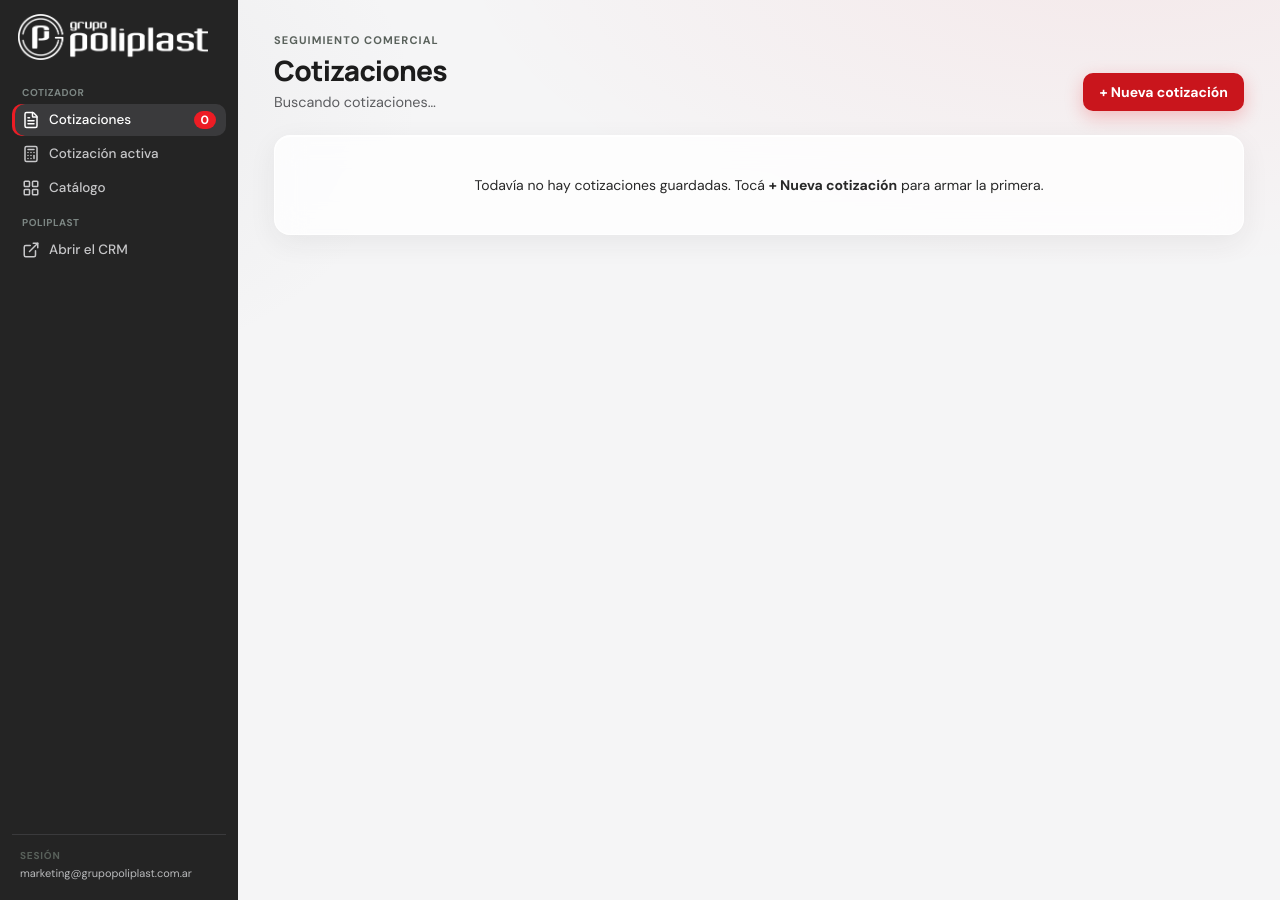
Test case: QuoteWorkspace — reglas comerciales conectadas › protege la cotización antes de abrir WhatsApp
Click the button "Catálogo" at (119, 188), box [12,172,226,204]
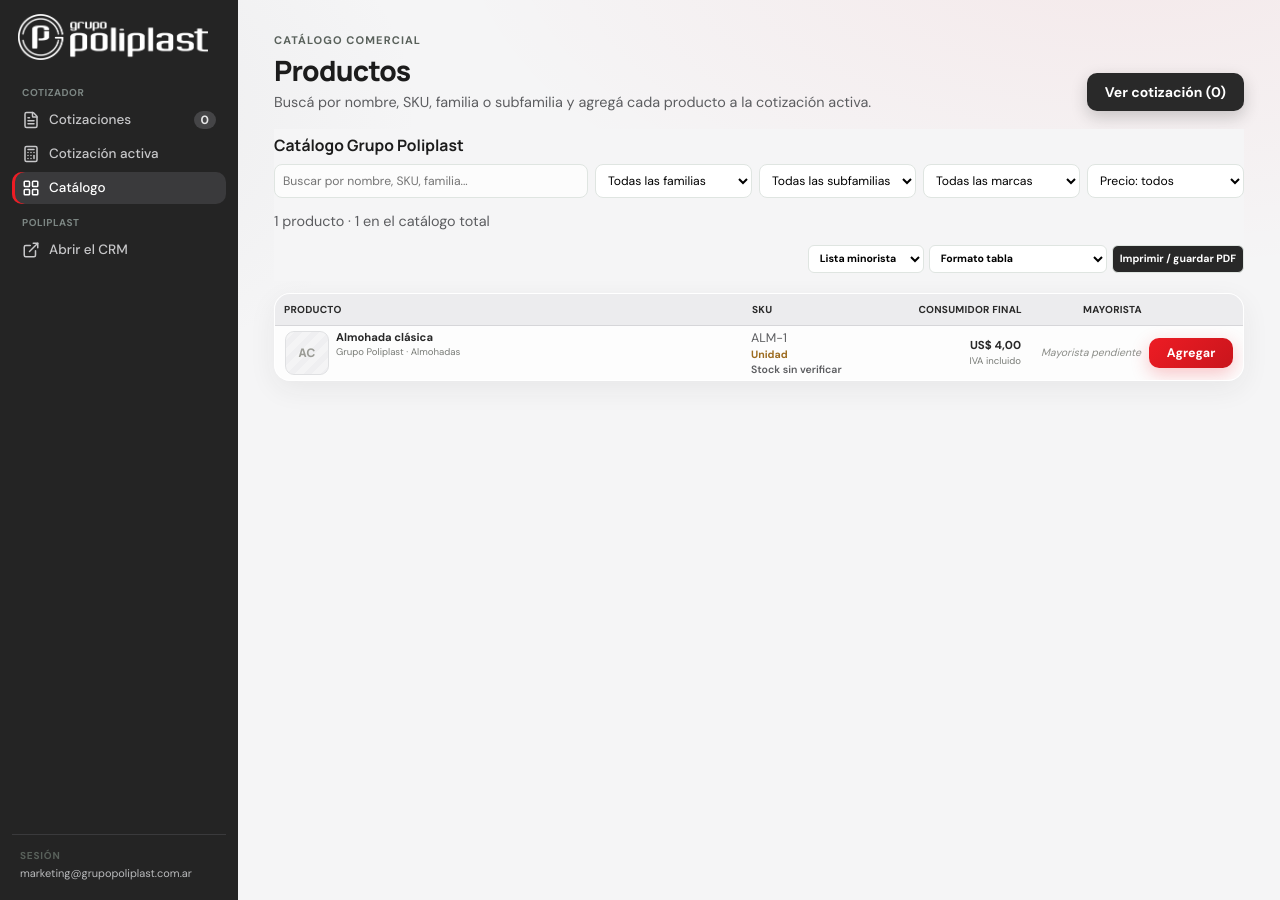
Click the button "Agregar" at (1191, 353), box [1149,338,1233,368]
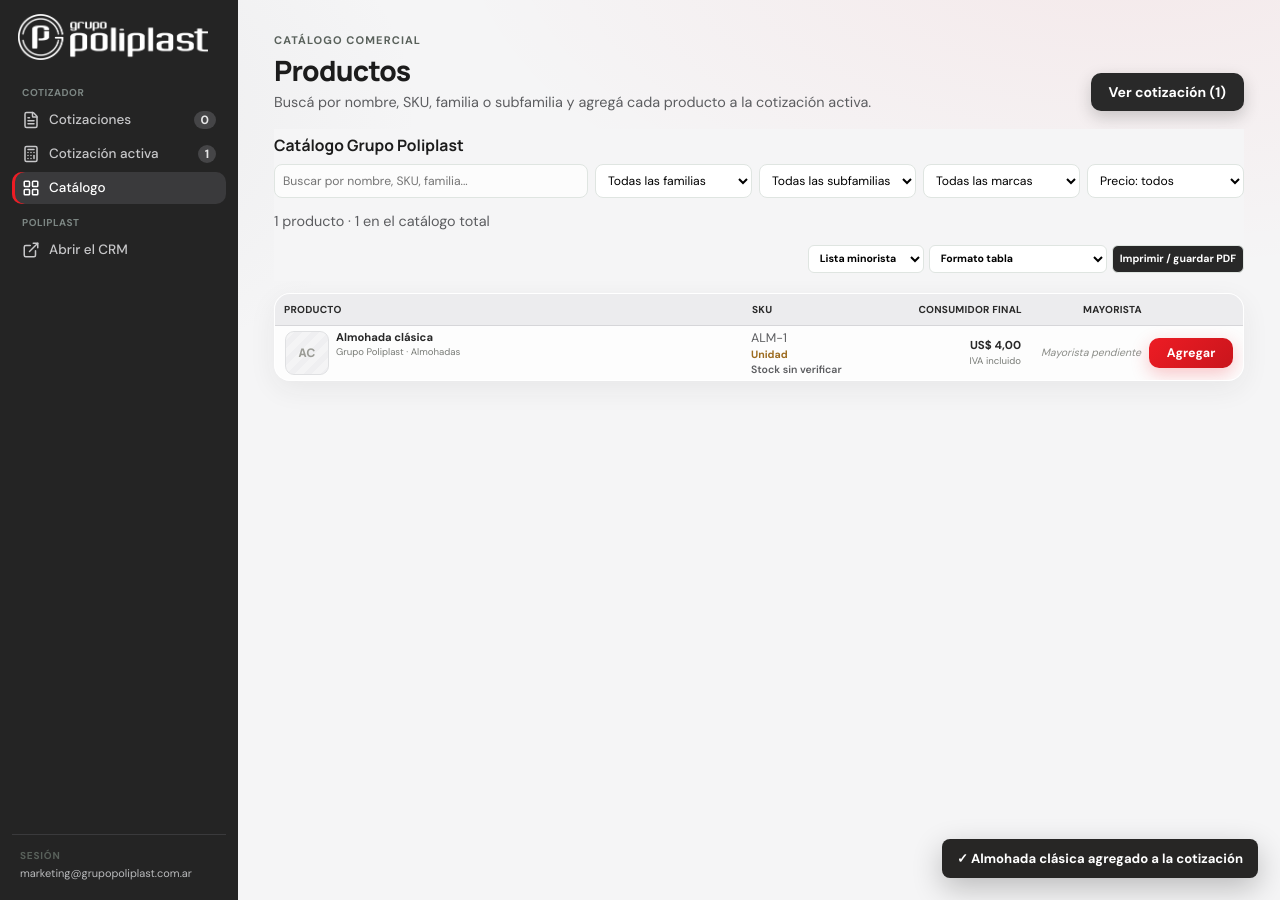
Click the button "Ver cotización (1)" at (1167, 92), box [1090,73,1244,111]
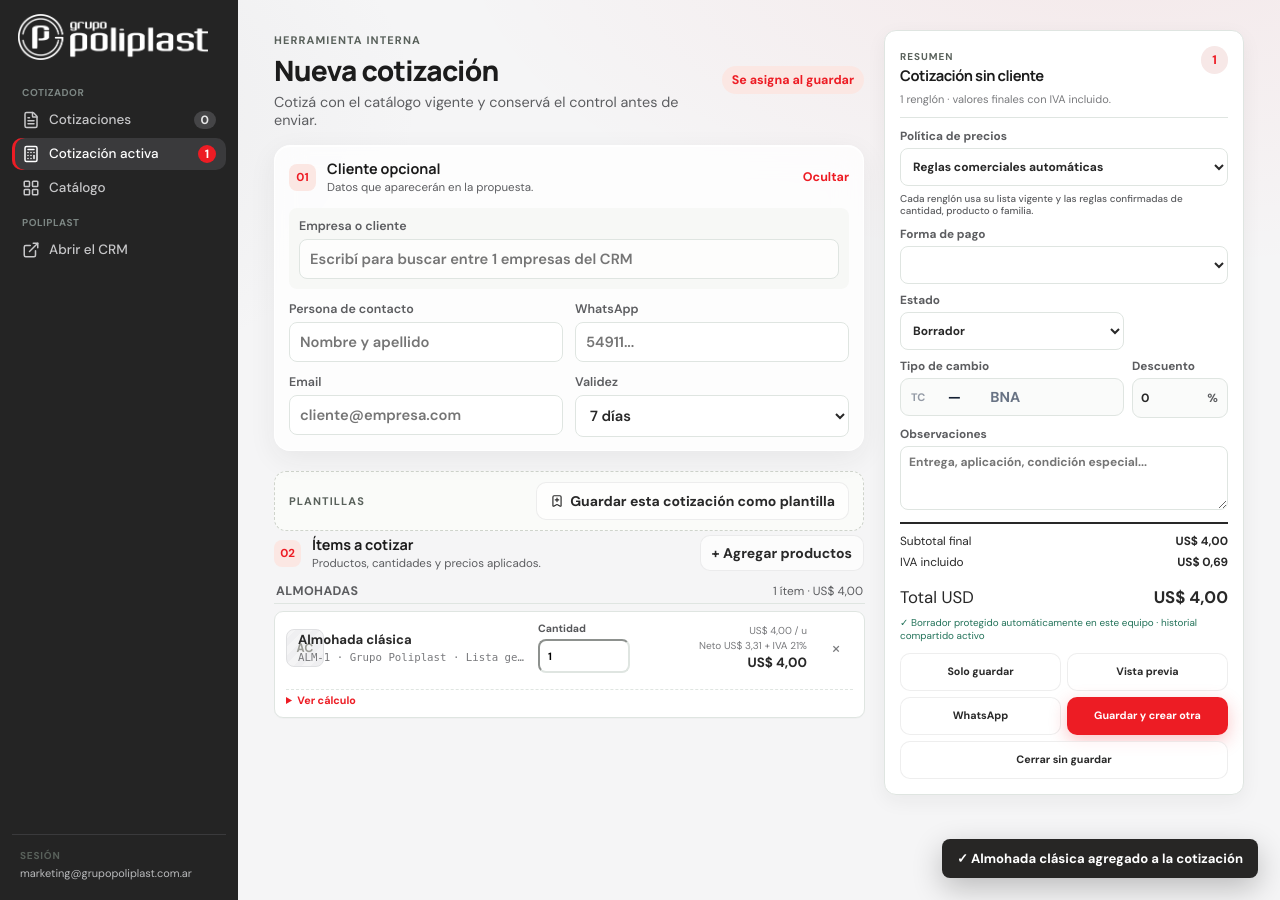
Type "Cliente Alfa" into the field with placeholder "Escribí para buscar entre 1 empresas del CRM" at (569, 259), box [299,239,839,279]
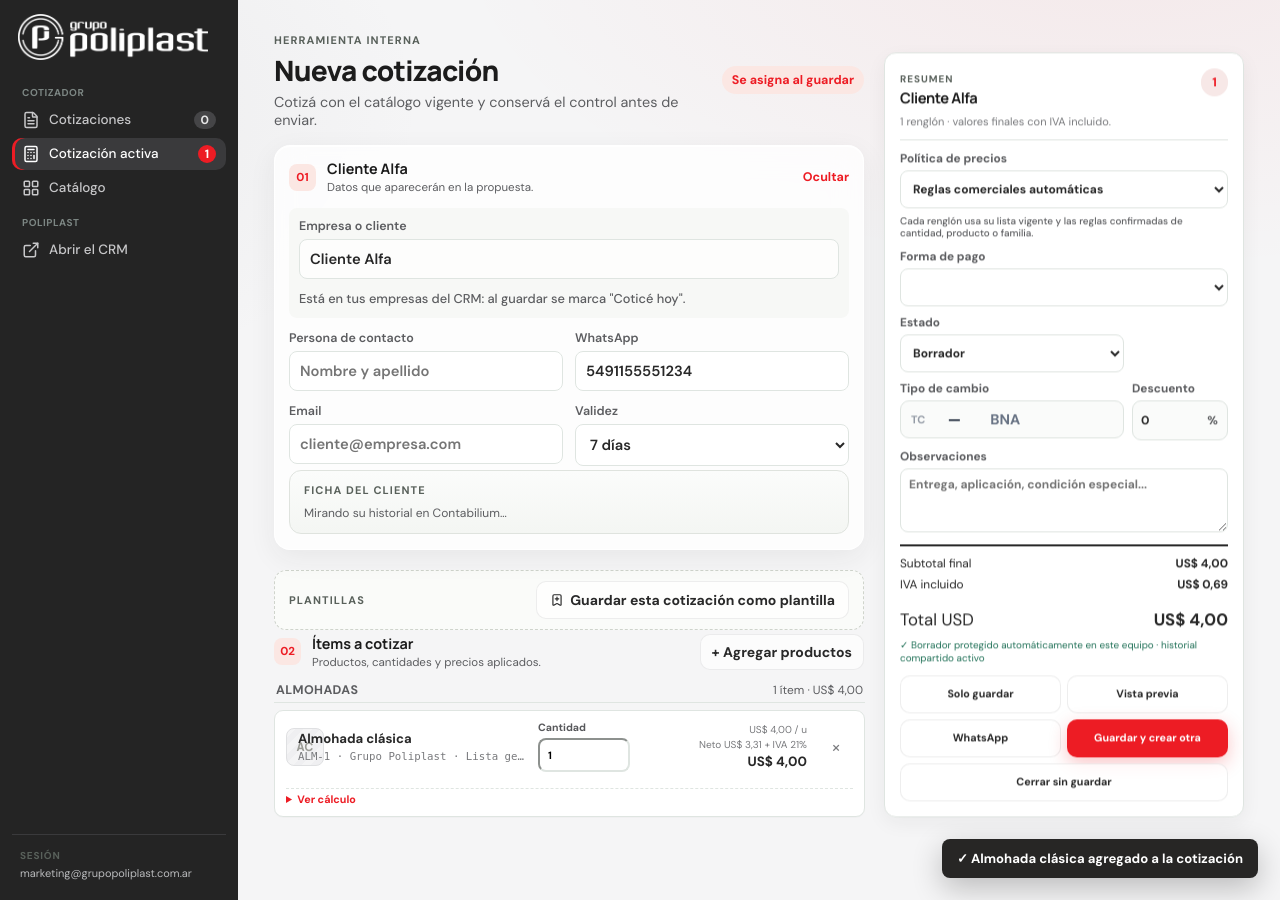
Result: the text "al guardar se marca \"Coticé hoy\"" is shown at [299,290,685,307]
Click the button "WhatsApp" at (980, 738), box [900,719,1061,757]
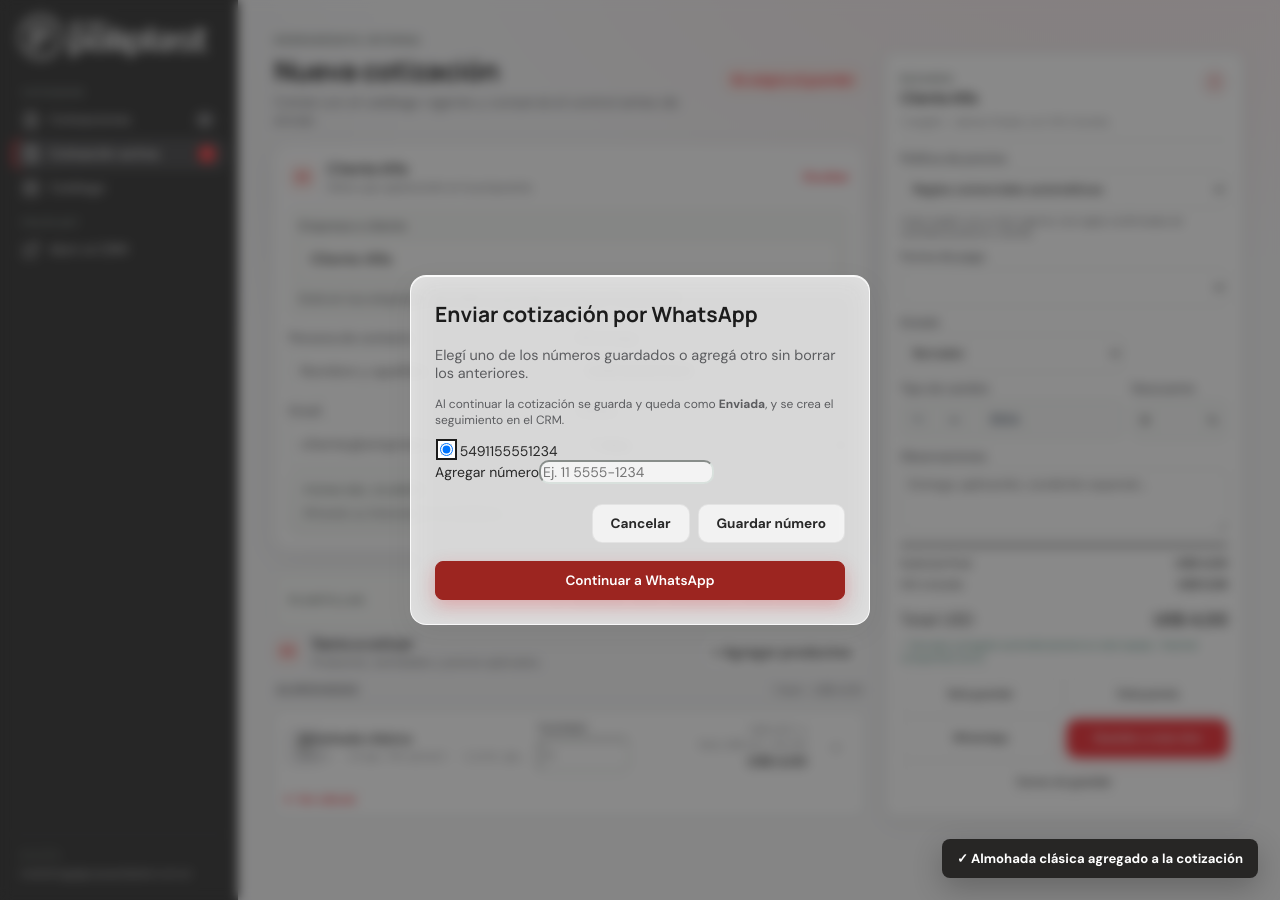
Click the button "Continuar a WhatsApp" at (640, 580), box [435,561,845,600]
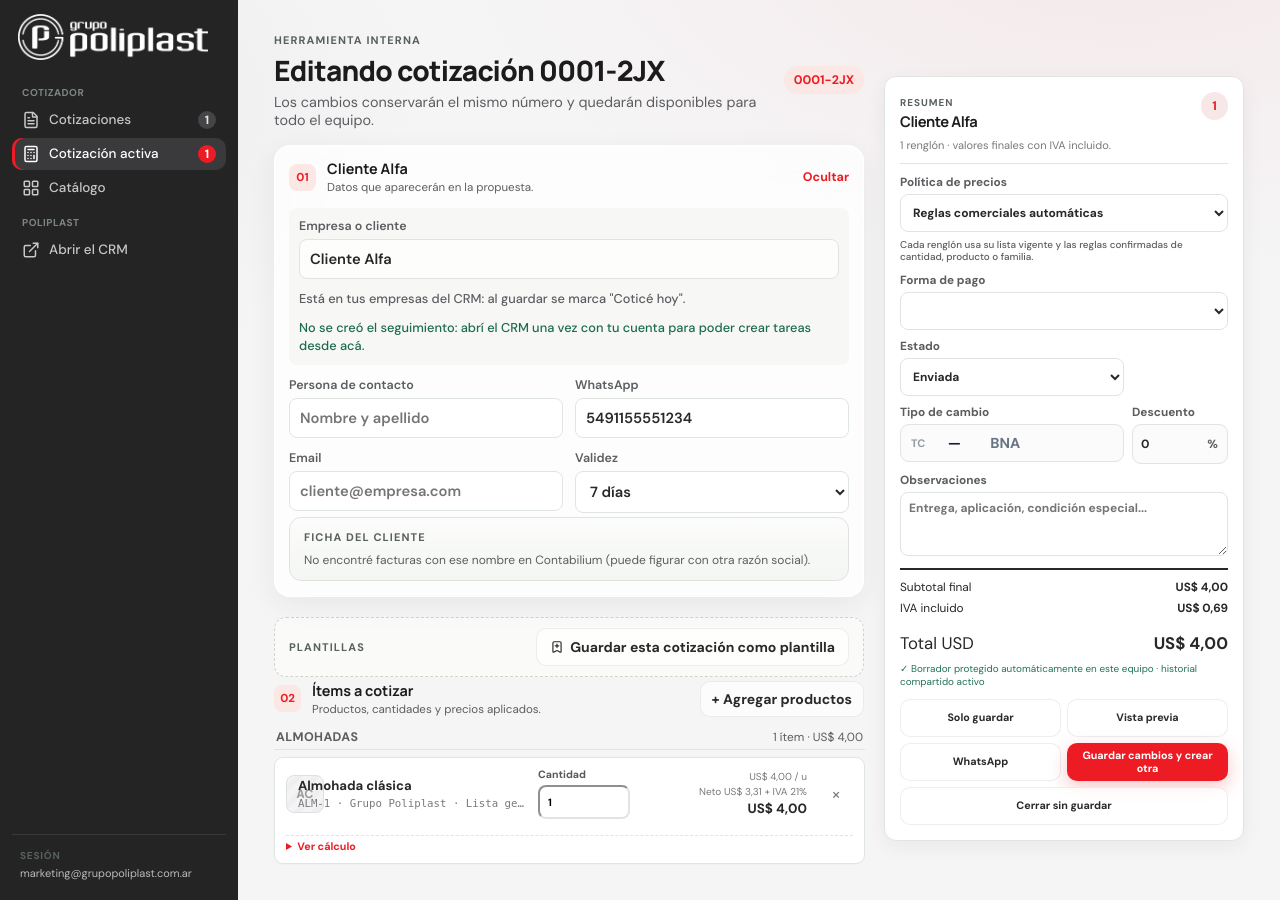
Result: the dropdown labelled "Estado" shows "Enviada" at [900,358,1124,396]
